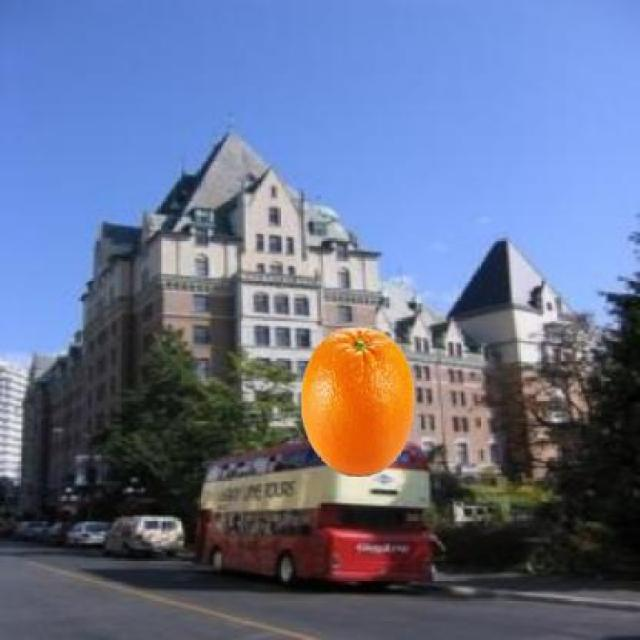Orange: (297, 324, 415, 476)
